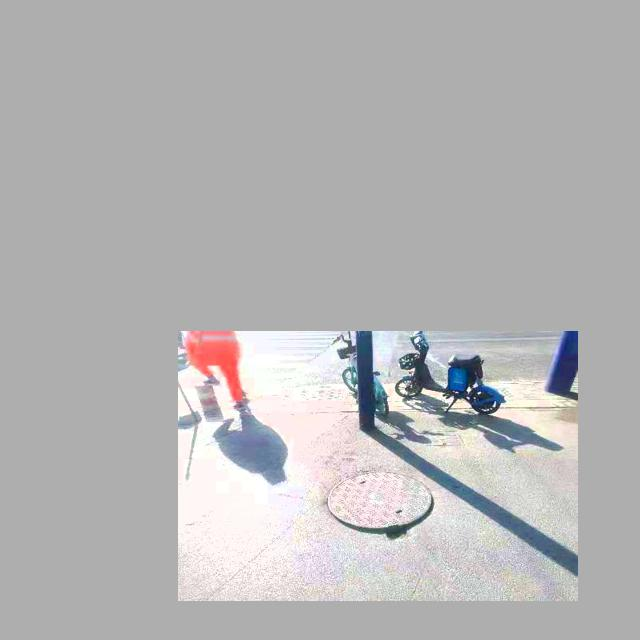uncovered: (327, 471, 435, 535)
